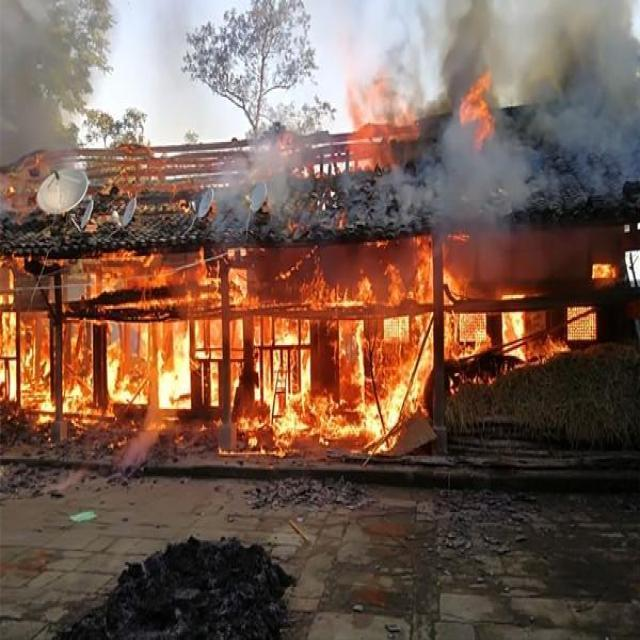fire: (0, 236, 432, 456), (445, 242, 568, 393), (344, 82, 419, 167), (457, 69, 502, 150)
